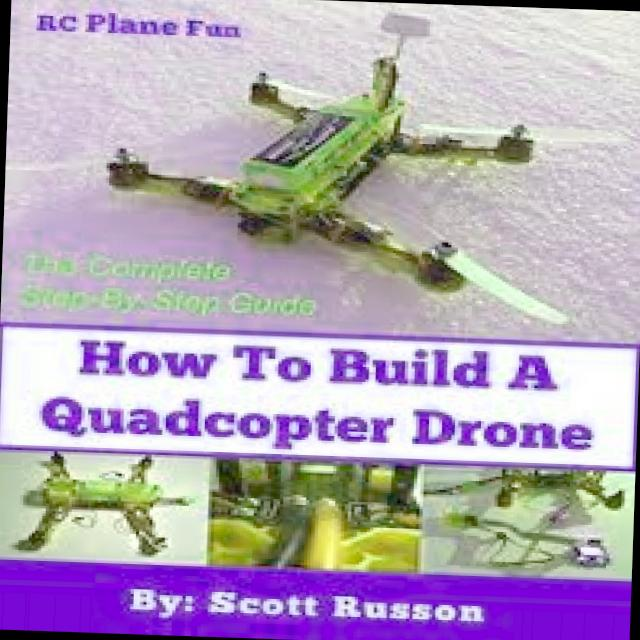drone: (72, 32, 590, 334), (12, 448, 195, 561)
